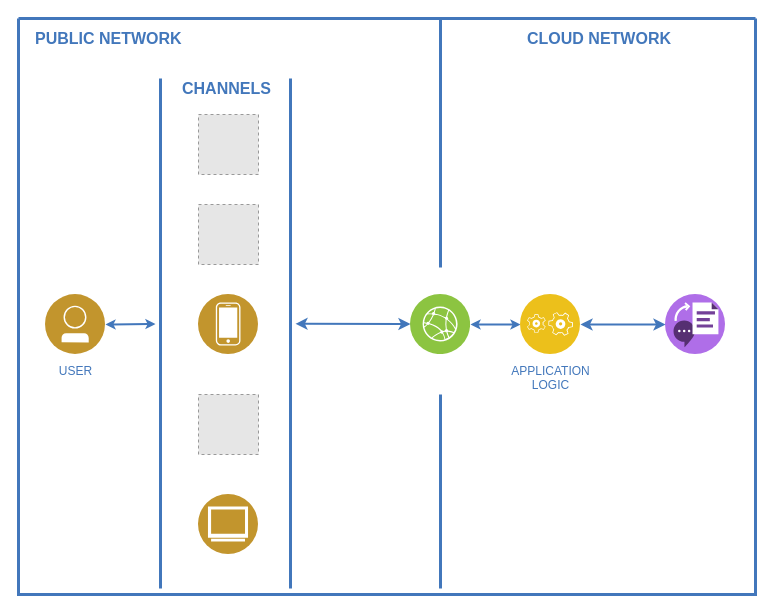
Image size: 774x613. Some labels were removed from this diagram. Grey dashed boxes stand in for pictures. The shapes that lost their labels are listed below. From the top down, each one's centre as x and y in pixels, then its label:
At point (440, 324): "EDGE SERVICES".
At point (695, 324): "SPEECH TO TEXT".
